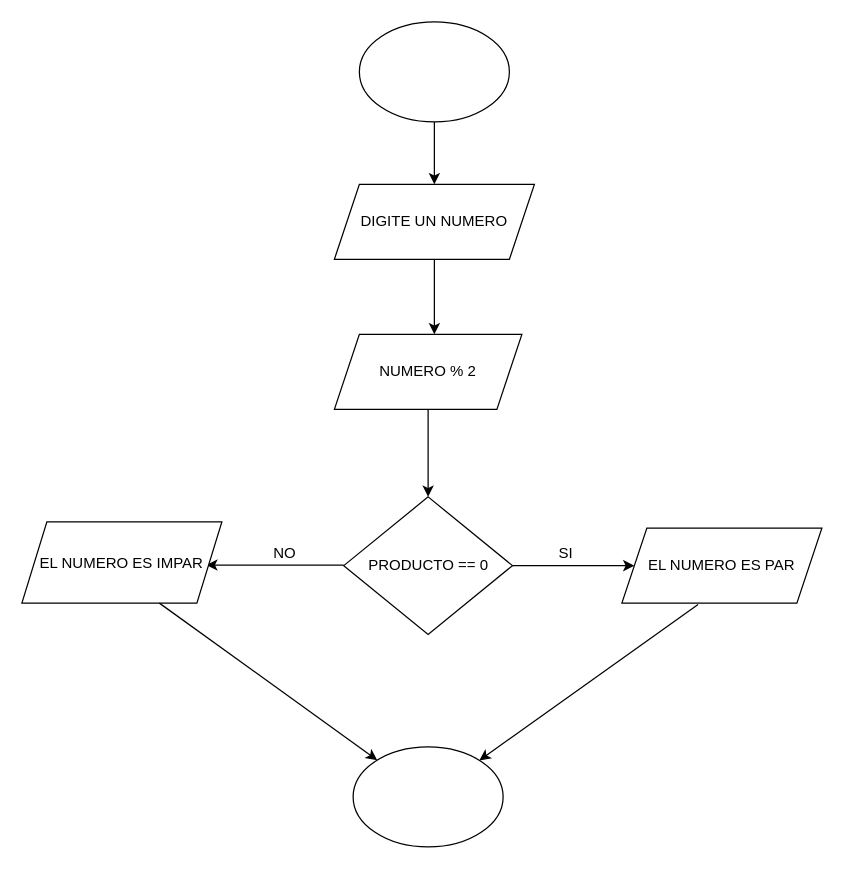
Image size: 844x869. Some labels were removed from this diagram. The centre of each missing label's shape, as x and y in pixels:
FIN: the point at 427,796
INICIO: the point at 433,71
